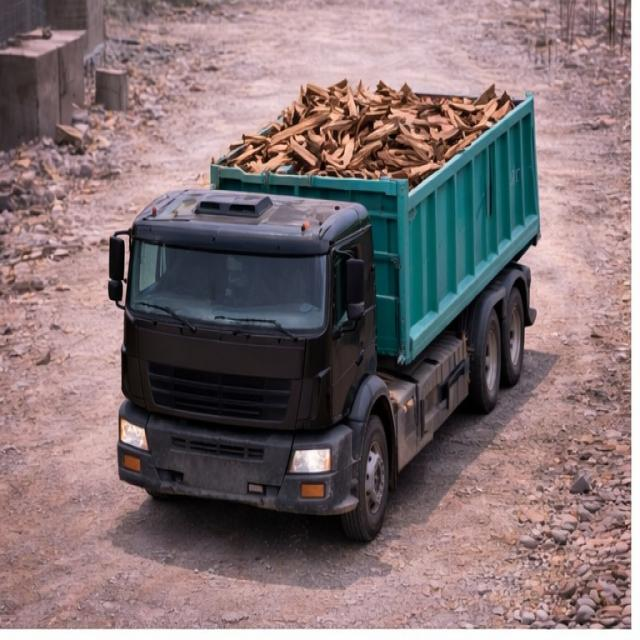Box: (218, 82, 535, 192)
Truck: (104, 73, 552, 531)
